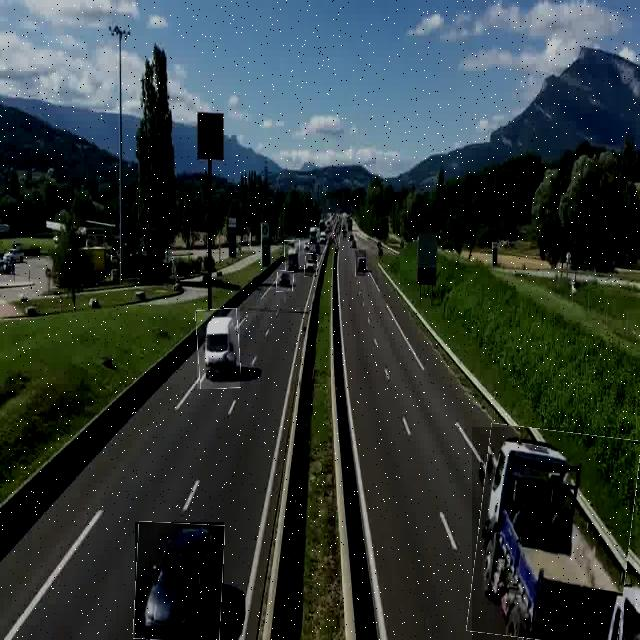Car: (135, 522, 224, 640), (197, 308, 240, 389), (276, 271, 294, 292), (355, 250, 366, 276), (305, 254, 317, 277)
Truck: (472, 427, 635, 640), (285, 240, 300, 273)
